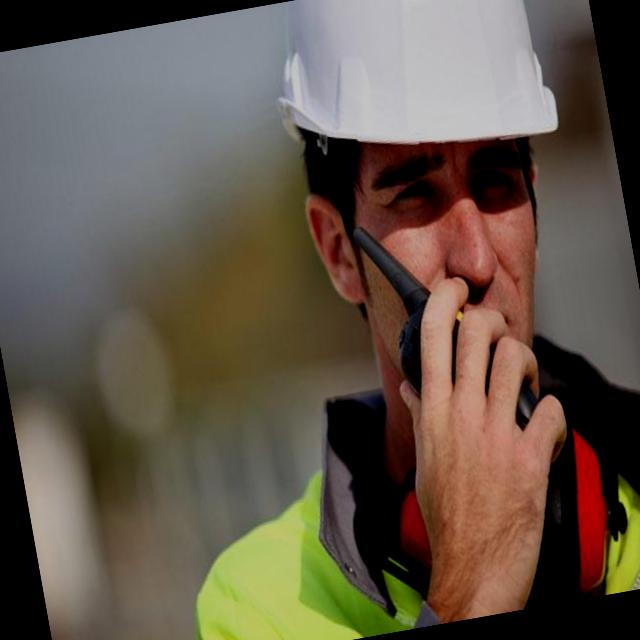helmet: (248, 0, 587, 229)
no-goggles: (333, 112, 563, 276)
vest: (186, 450, 640, 640)
